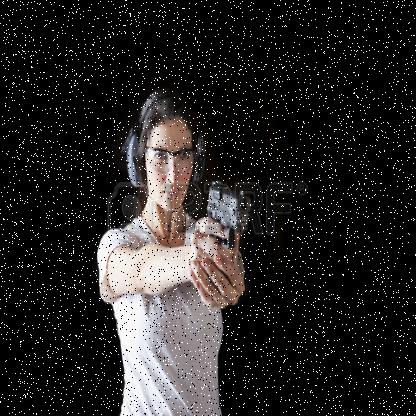pistol: (205, 180, 250, 251)
